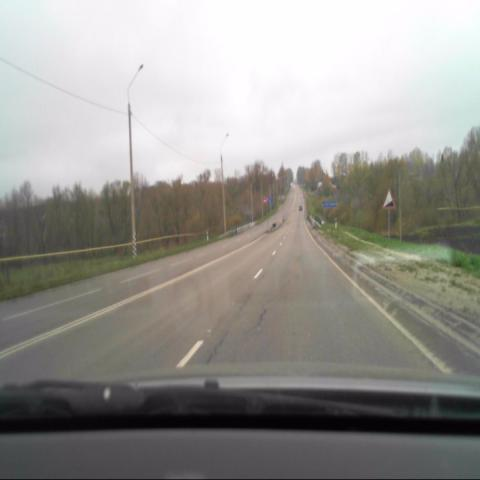1_14: (383, 190, 397, 210)
